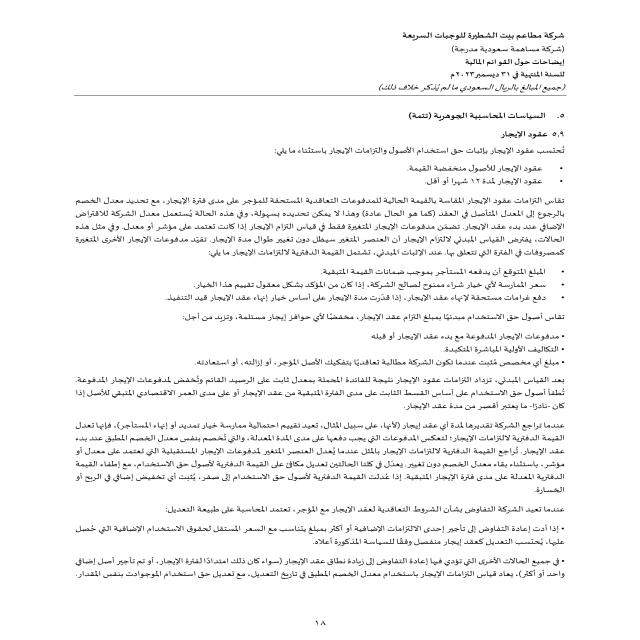notes: (440, 56, 570, 68)
text: (46, 106, 571, 594)
